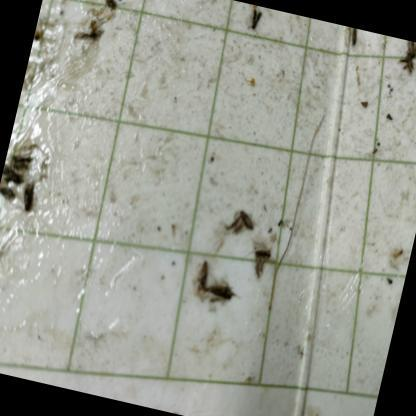prays_oleae: (199, 264, 244, 320), (242, 5, 277, 46), (224, 202, 258, 243), (13, 180, 44, 220), (191, 252, 214, 304), (393, 39, 416, 81), (249, 247, 274, 280), (0, 186, 17, 205)
